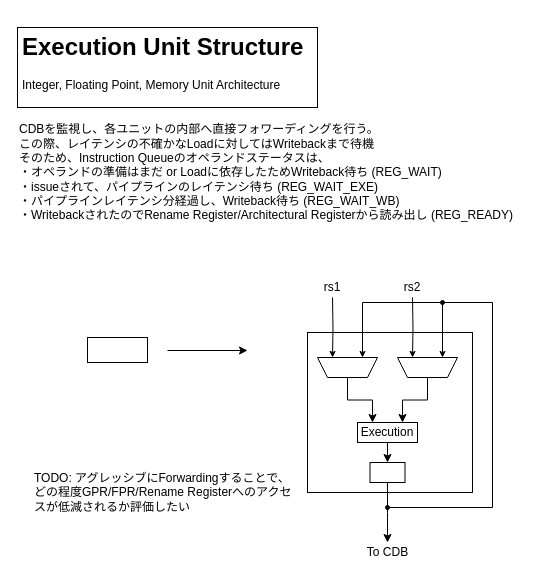
Image size: 550x579. Some labels were removed from this diagram. Here are the shapes that lost their labels. From the top down, the centre of each, then its label:
(x=117, y=349): ALU
(x=387, y=472): Reg
